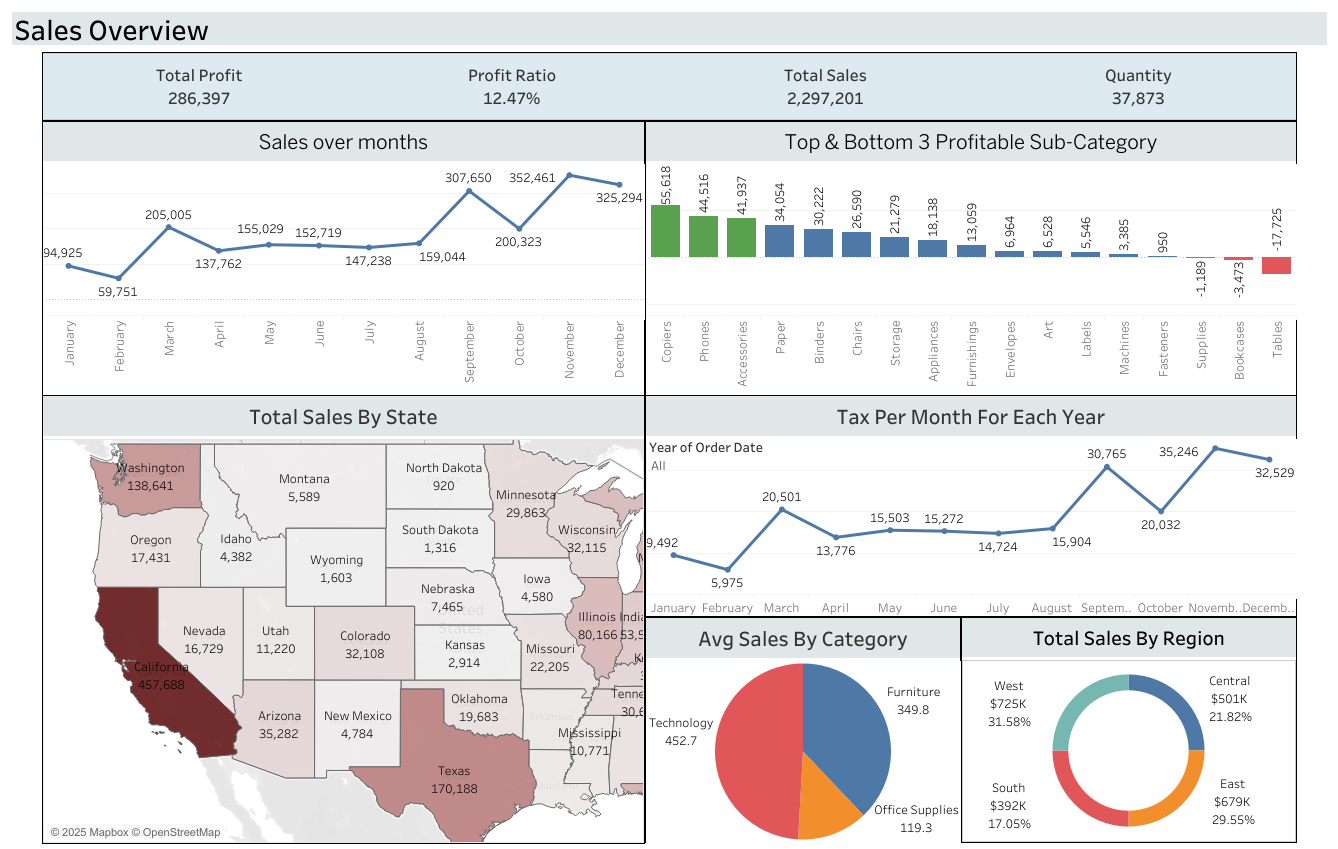

Layout of this report page (visuals, bound fields, positions):
{"tool":"tableau","page":{"name":"Sales Overview","canvas":[1000,1000],"units":"permille","ordinal":0},"visuals":[{"type":"title","box":[6.1,9.4,987.9,48.2]},{"type":"worksheet","title":"Cards","mark":"Automatic","box":[31.1,61.2,937.9,81.2]},{"type":"worksheet","title":"Sales over months","mark":"Automatic","rows":["Sales"],"cols":["Order Date"],"box":[31.1,142.3,450.8,323.5]},{"type":"worksheet","title":"Top & Bottom 3 Profitable Sub-Category","mark":"Automatic","rows":["Profit"],"cols":["Sub-Category"],"box":[481.8,142.3,487.1,323.5]},{"type":"worksheet","title":"Total Sales By State","mark":"Automatic","box":[31.1,464.7,450.8,528.2]},{"type":"worksheet","title":"Tax Per Month For Each Year","mark":"Automatic","rows":["Calculation_1089308209063485443"],"cols":["Order Date"],"box":[481.8,464.7,487.1,261.2]},{"type":"filter","title":"Tax Per Month For Each Year","param":"[federated.0auaz1s04kphzt11rrrse1k9qeic].[yr:Order Date:ok]","box":[484.9,512.9,90.9,52.9]},{"type":"worksheet","title":"Avg Sales By Category ","mark":"Pie","box":[481.8,725.9,235.6,265.9]},{"type":"worksheet","title":"Total Sales By Region","mark":"Pie","rows":["Calculation_1089308209060245506","Calculation_1089308209060245506"],"box":[717.4,725.9,251.5,265.9]}]}

Visuals, with their boxes on the dashboard's canvas, which has no fixed pixel size, in thousandths of its width and height (x1, y1, x2, y2). These are canvas units, not pixel positions in the 1338x849 screenshot, which may show the page scaled, cropped or inside an application window:
title: (left=6, top=9, right=994, bottom=58)
"Cards" worksheet: (left=31, top=61, right=969, bottom=142)
"Sales over months" worksheet: (left=31, top=142, right=482, bottom=466)
"Top & Bottom 3 Profitable Sub-Category" worksheet: (left=482, top=142, right=969, bottom=466)
"Total Sales By State" worksheet: (left=31, top=465, right=482, bottom=993)
"Tax Per Month For Each Year" worksheet: (left=482, top=465, right=969, bottom=726)
"Tax Per Month For Each Year" filter: (left=485, top=513, right=576, bottom=566)
"Avg Sales By Category " worksheet (Pie marks): (left=482, top=726, right=717, bottom=992)
"Total Sales By Region" worksheet (Pie marks): (left=717, top=726, right=969, bottom=992)
